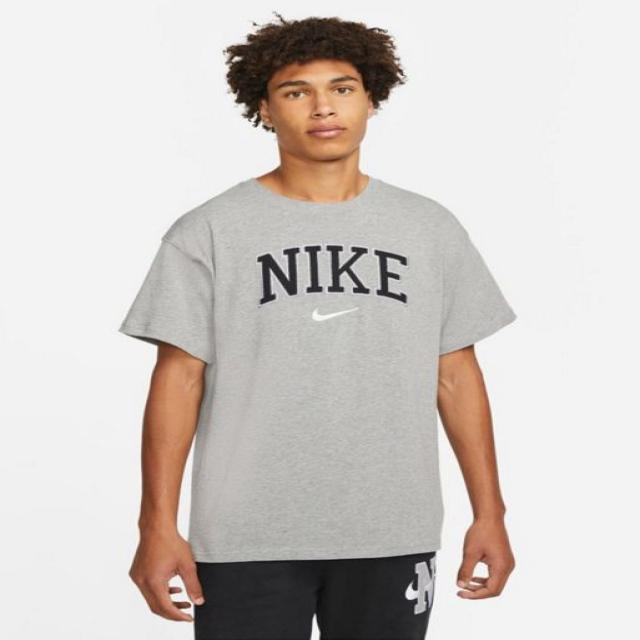tshirt: (118, 173, 516, 563)
